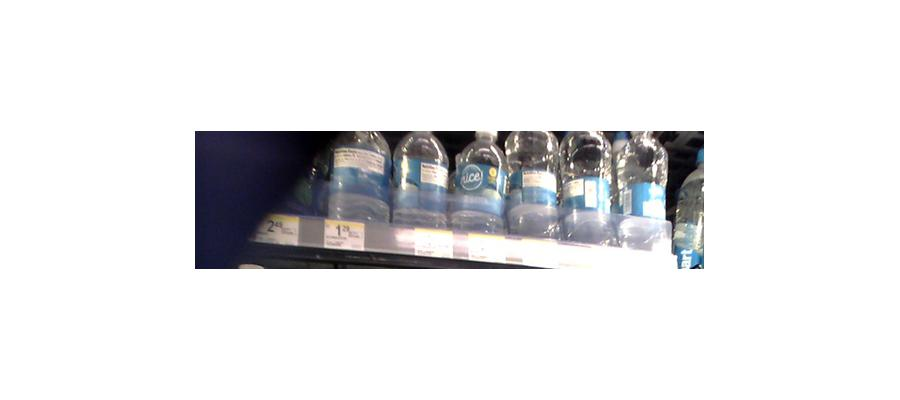bottle: (613, 127, 666, 253), (325, 127, 390, 226), (559, 127, 611, 245), (505, 127, 559, 234), (390, 129, 448, 227), (450, 131, 505, 232)
